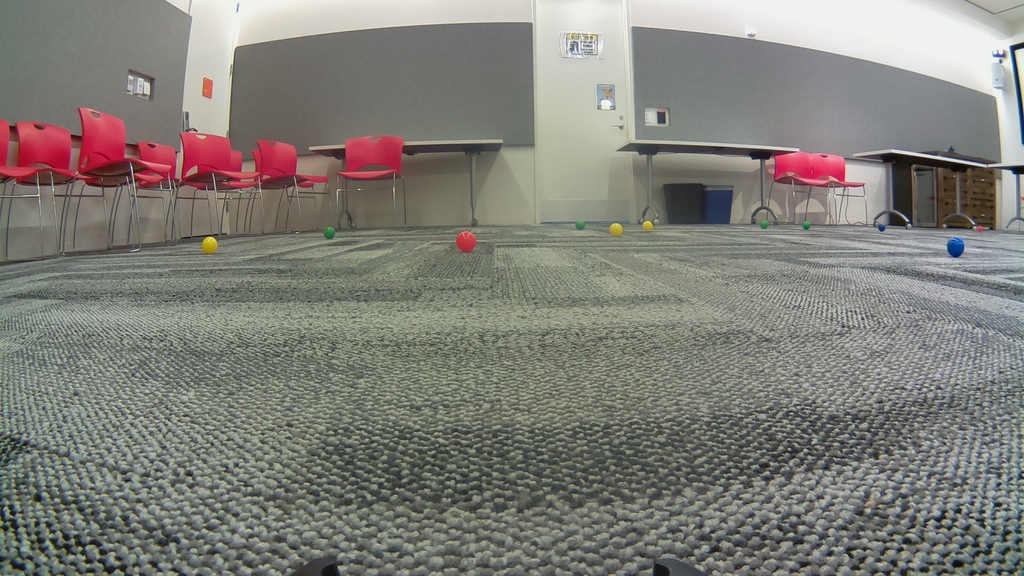ball: (457, 231, 475, 253)
